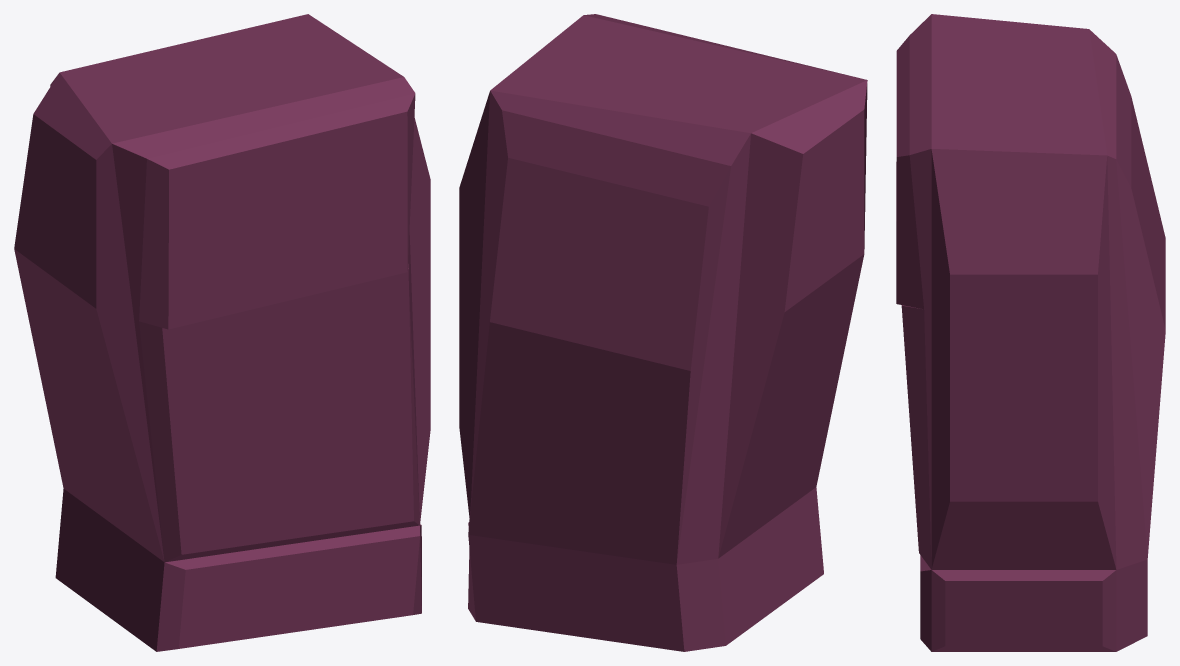
File: hidarifutomomo.obj
3 views of the same model, side by side, from view 1: azimuth 30°, elevation 25°; view 2: azimuth 150°, elevation 25°; view 3: azimuth 270°, elevation 25° (orthographic). The views are drawn at different scales.
Visible parts, largest first — view 1: pCube6 pCube7; view 2: pCube6 pCube7; view 3: pCube6 pCube7.
Boxes of the visible parts, x1=… form: pCube6 pCube7: x1=14, y1=14, x2=430, y2=651; pCube6 pCube7: x1=459, y1=14, x2=867, y2=651; pCube6 pCube7: x1=896, y1=14, x2=1165, y2=651.
Size of the model in its own units: 0.743 by 1.16 by 0.5653.
Materials: 1 (1 with a texture image).
